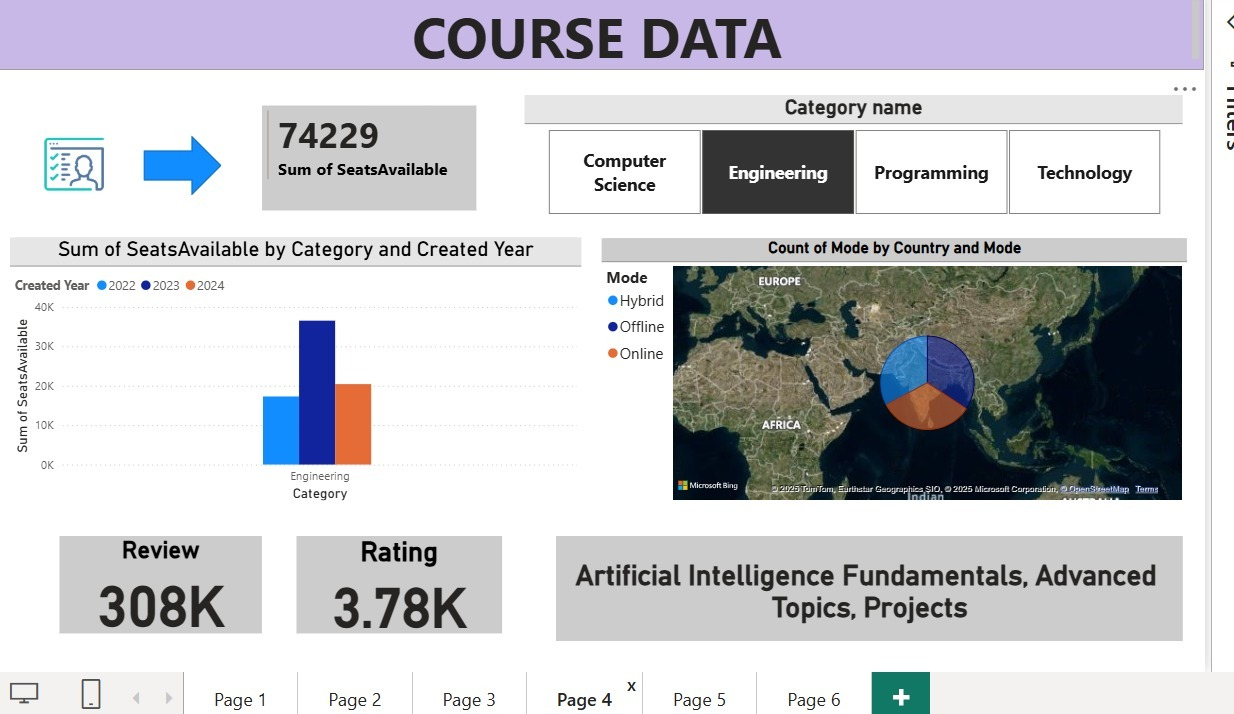

Layout of this report page (visuals, bound fields, positions):
{"tool":"powerbi","page":{"name":"Page 4","canvas":[1280,720],"ordinal":3},"visuals":[{"type":"map","fields":{"Category":["course data.Country Hierarchy.Country"],"Size":["CountNonNull(course data.Mode)"],"Series":["course data.Mode"]},"box":[639.4,259.3,621.9,283.1],"z":0},{"type":"textbox","box":[0,0,1278.9,81.1],"z":1000},{"type":"slicer","title":"Category name","fields":{"Values":["course data.Category"]},"box":[558.3,108.2,698.3,132],"z":2000},{"type":"clusteredColumnChart","fields":{"Category":["course data.Category"],"Series":["course data.Created Year"],"Y":["Sum(course data.SeatsAvailable)"]},"box":[12.7,259.3,606,283.1],"z":3000},{"type":"image","box":[34.4,121.5,91.1,121.5],"z":4000},{"type":"shape","box":[154.3,151.1,82.7,63.6],"z":5000},{"type":"multiRowCard","fields":{"Values":["Sum(course data.SeatsAvailable)"]},"box":[279.9,119.3,227.5,111.3],"z":6000},{"type":"card","title":"Rating","fields":{"Values":["Sum(course data.Rating)"]},"box":[316.5,575.8,217.9,103.4],"z":7000},{"type":"card","title":"Review","fields":{"Values":["Sum(course data.ReviewCount)"]},"box":[65.2,575.8,214.7,103.4],"z":8000},{"type":"card","fields":{"Values":["Min(course data.Syllabus)"]},"box":[591.7,575.8,664.9,111.3],"z":9000}]}

Visuals, with their boxes on the page's 1280x720 design canvas (x1, y1, x2, y2). These are canvas units, not pixel positions in the 1234x714 screenshot, which may show the page scaled, cropped or inside an application window:
map - course data.Country Hierarchy.Country x CountNonNull(course data.Mode): bbox=[639, 259, 1261, 542]
textbox: bbox=[0, 0, 1279, 81]
"Category name" slicer: bbox=[558, 108, 1257, 240]
clusteredColumnChart - course data.Category x course data.Created Year: bbox=[13, 259, 619, 542]
image: bbox=[34, 122, 126, 243]
shape: bbox=[154, 151, 237, 215]
multiRowCard - Sum(course data.SeatsAvailable): bbox=[280, 119, 507, 231]
"Rating" card: bbox=[316, 576, 534, 679]
"Review" card: bbox=[65, 576, 280, 679]
card - Min(course data.Syllabus): bbox=[592, 576, 1257, 687]
